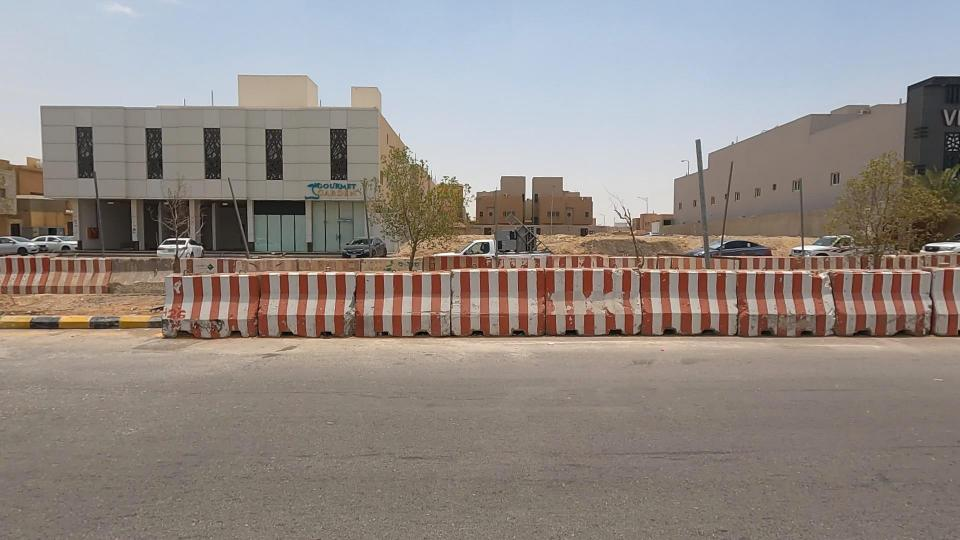CONSTRUCTION_ROAD: (82, 221, 532, 398), (634, 207, 960, 379), (395, 236, 802, 360), (0, 232, 151, 309)
